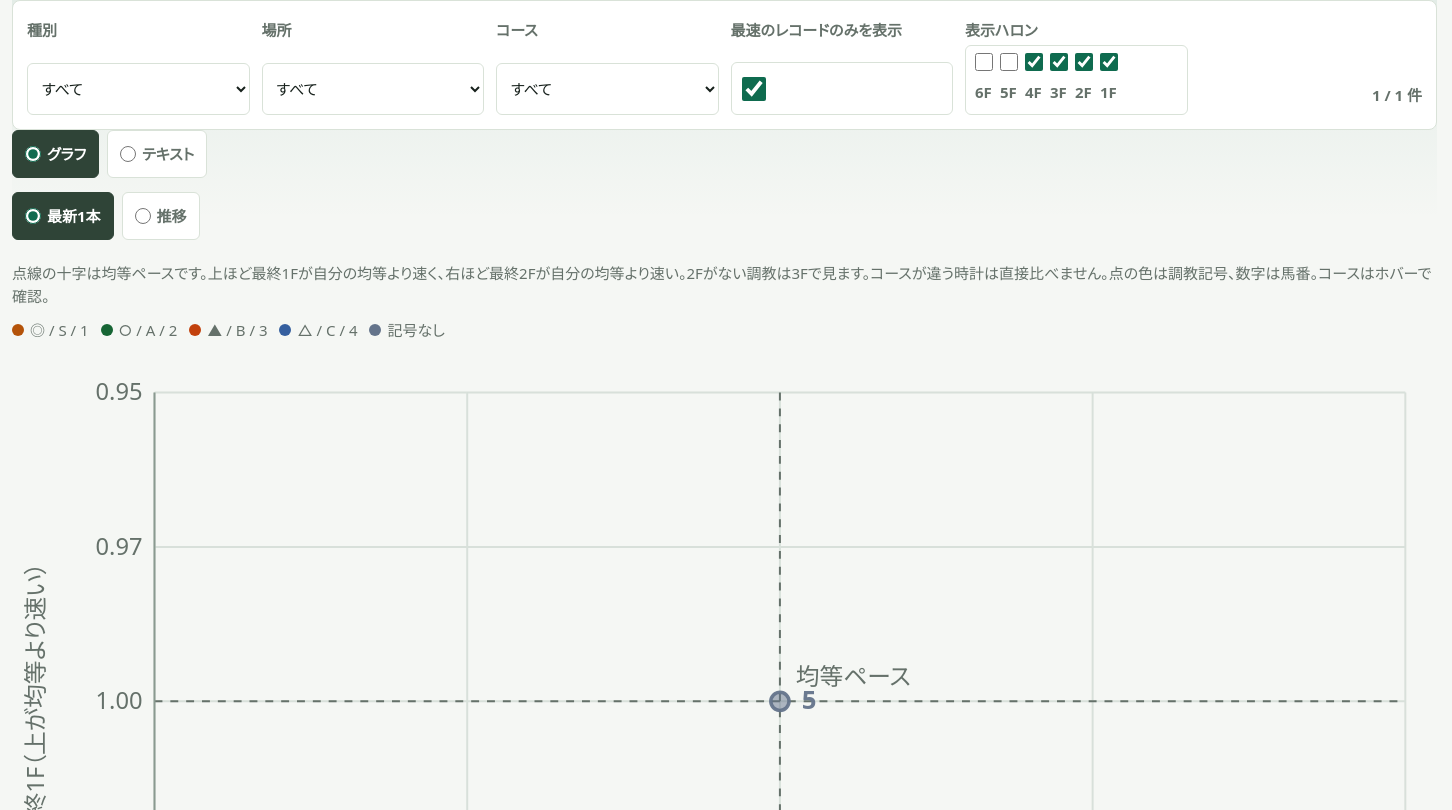
Test: training table › shows a dash instead of a malformed date for entrants with no official workout data
The image size is (1452, 810).
Click the radio button labelled "テキスト" at (128, 154), box [120,146,136,162]
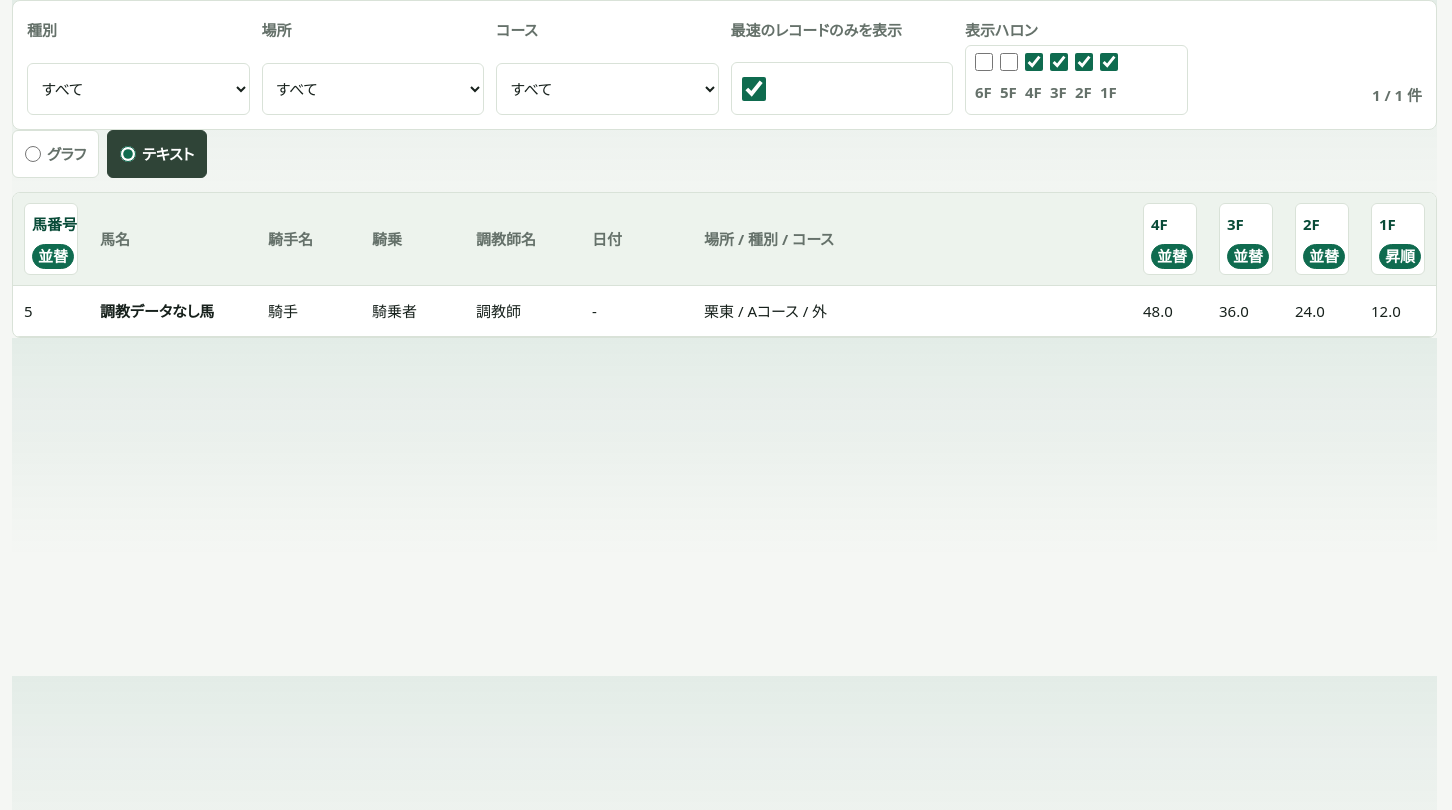
Expected: the text "調教データなし馬" is shown, [89,286,257,336]
Expected: the text "-" is shown, [581,286,693,336]
